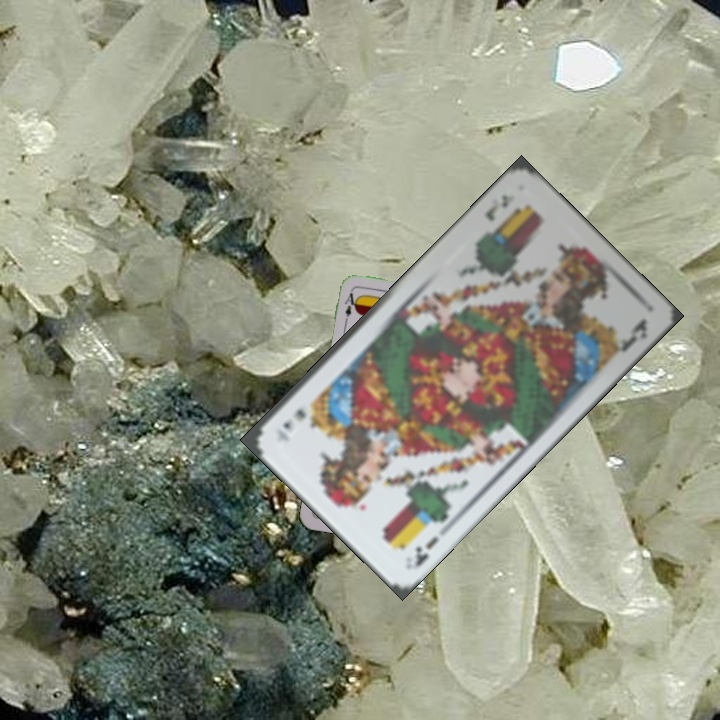EA: (340, 289, 356, 328)
EK: (407, 532, 441, 573), (481, 190, 517, 224)
